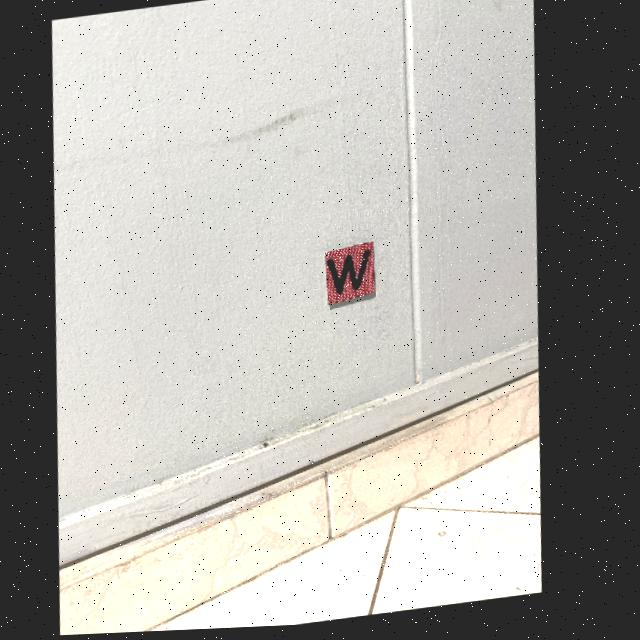W: (332, 254, 374, 297)
